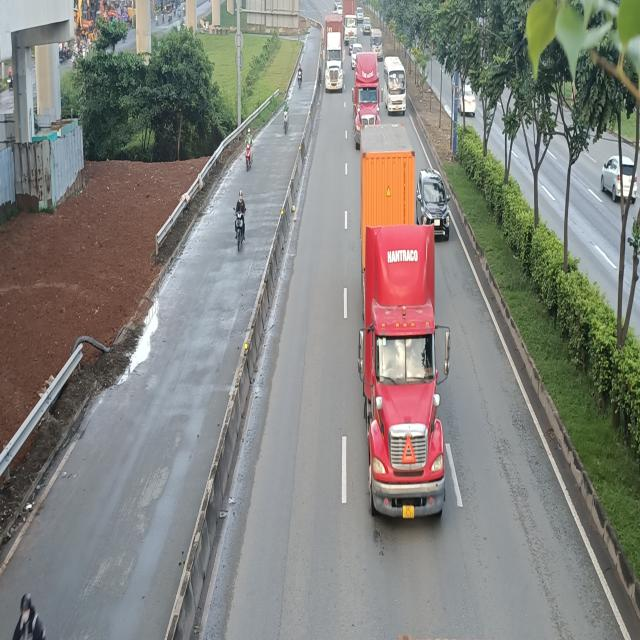car: (415, 171, 450, 241)
coach: (382, 55, 406, 116)
container: (360, 126, 454, 516), (352, 52, 379, 145), (323, 14, 344, 92), (344, 0, 356, 45)
